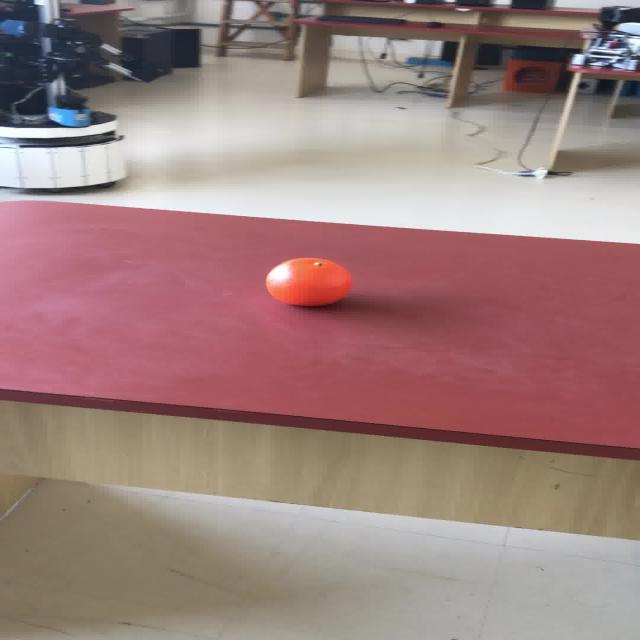orange: (264, 256, 351, 307)
